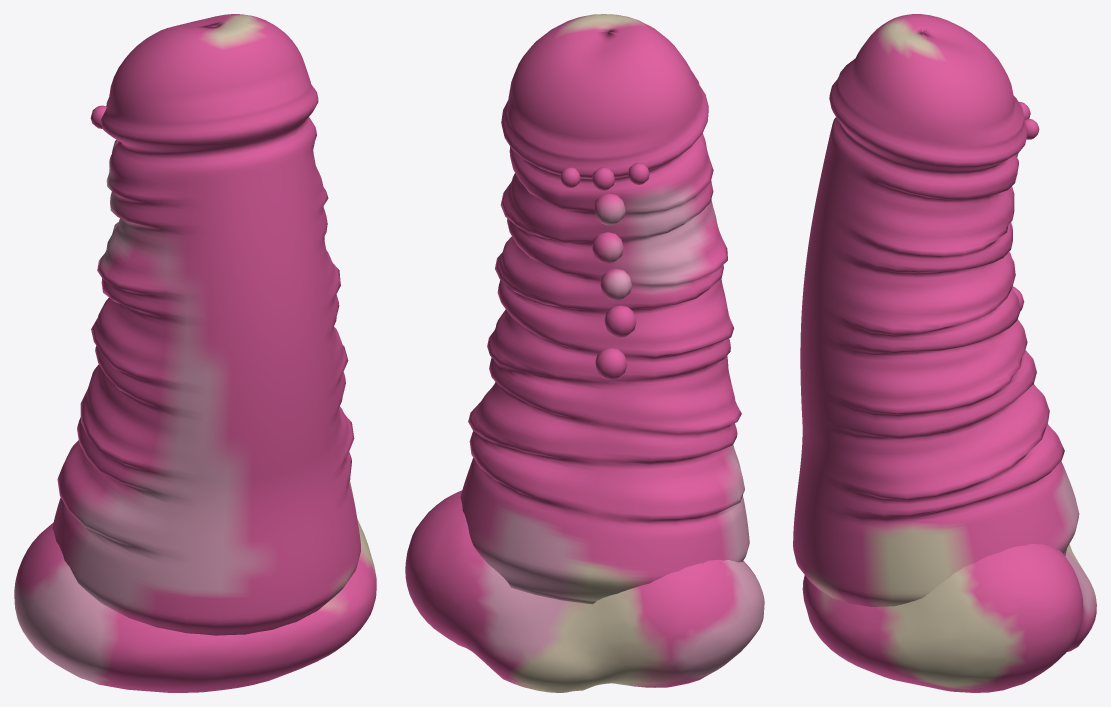
File: rook.glb
3 renders of one model, left to right at view 1: azimuth 30°, elevation 25°; view 2: azimuth 150°, elevation 25°; view 3: azimuth 270°, elevation 25°, orthographic. The views are drawn at different scales.
Visible parts, largest first — view 1: rook; view 2: rook; view 3: rook.
Part boxes in pixels (x1,y1,x2,y2): rook: [14, 14, 376, 692]; rook: [405, 14, 764, 692]; rook: [793, 14, 1096, 692].
Bounding box in the file's own units: 0.543 × 1 × 0.4506.
